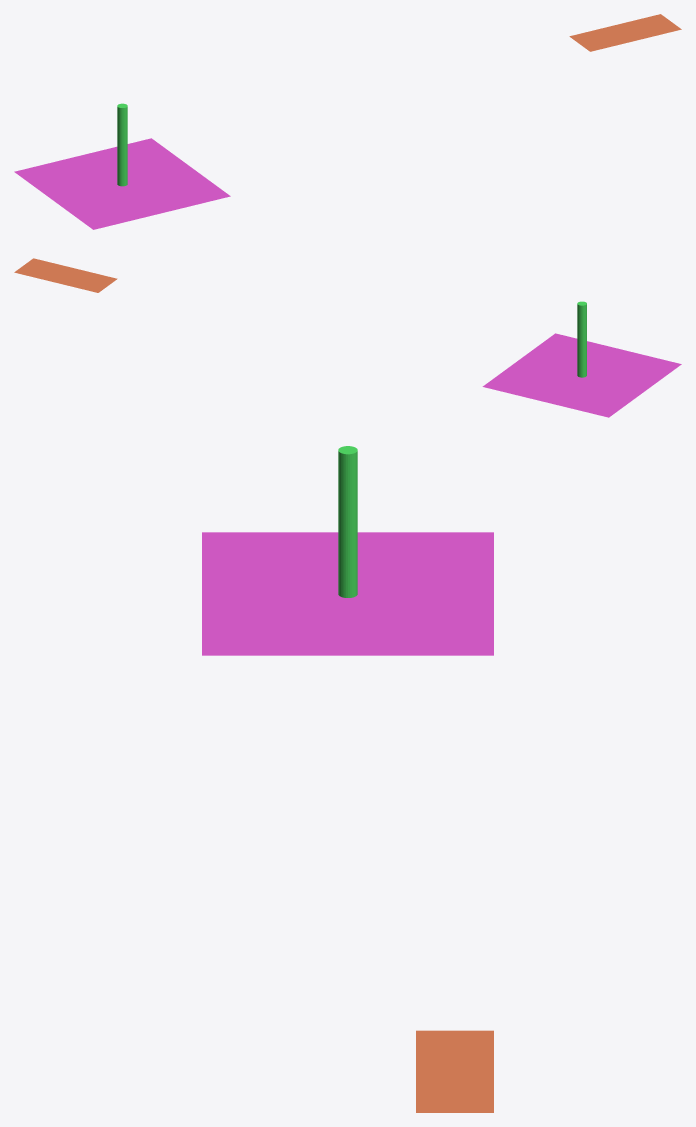
The model's file is TowerOceanTreeTest.glb.
3 views of the same model, one above another, from view 1: azimuth 30°, elevation 25°; view 2: azimuth 150°, elevation 25°; view 3: azimuth 270°, elevation 25° (orthographic). The views are drawn at different scales.
Parts seen in each view (by area): view 1: Tower Central, Ocean Station, Tower Central - Tree; view 2: Tower Central, Ocean Station, Tower Central - Tree; view 3: Tower Central, Ocean Station, Tower Central - Tree.
Part boxes in pixels (box(x1,y1,x2,y2)): Tower Central: box(14, 138, 230, 229); Ocean Station: box(569, 14, 681, 51); Tower Central - Tree: box(117, 103, 127, 186); Tower Central: box(482, 333, 681, 417); Ocean Station: box(14, 258, 117, 292); Tower Central - Tree: box(577, 301, 586, 377); Tower Central: box(202, 532, 493, 655); Ocean Station: box(416, 1030, 493, 1112); Tower Central - Tree: box(338, 446, 357, 597).
Size of the model in its own units: 141 by 16.32 by 30.
